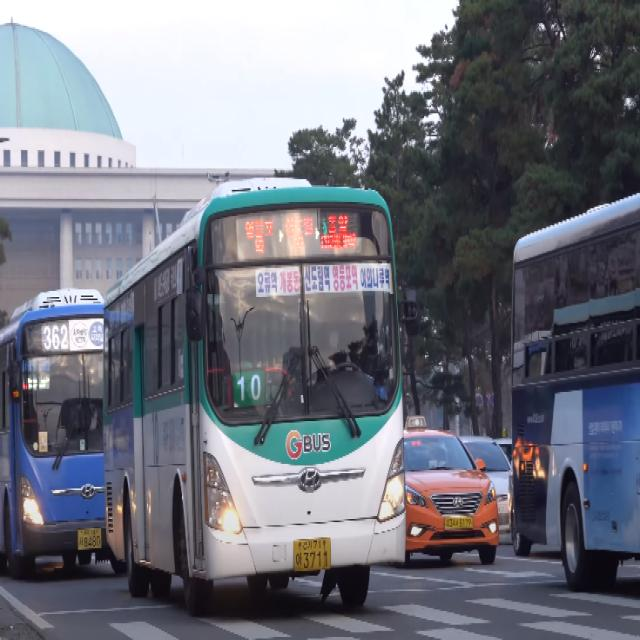bus-number: (42, 324, 68, 352)
